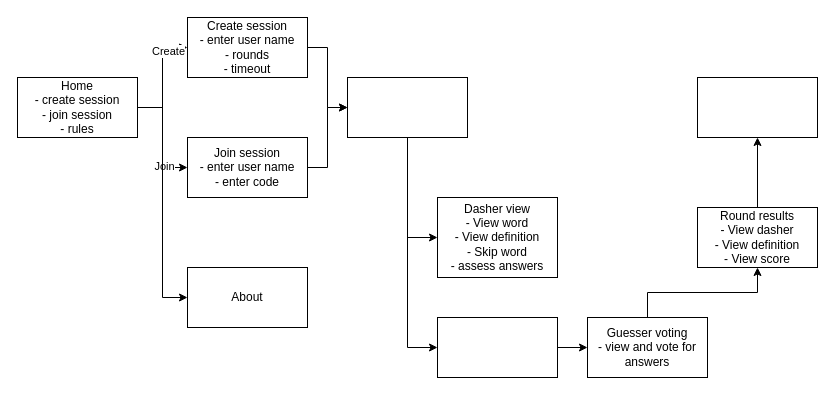
Some shapes in this 835 by 395 pixel diagram are drawn without their labels. Here are the shapes that lost their labels. From the top down, the centre of each, then its label:
At (x=407, y=107): "Round N".
At (x=757, y=107): "Final score screen".
At (x=497, y=347): "Guesser view - View word - Type answer".
